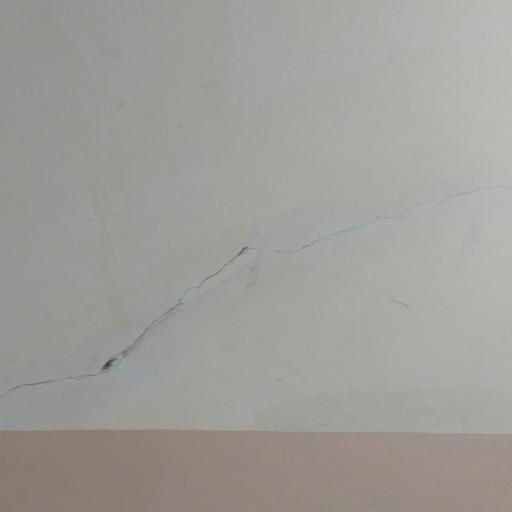minor_crack: (0, 170, 512, 419)
